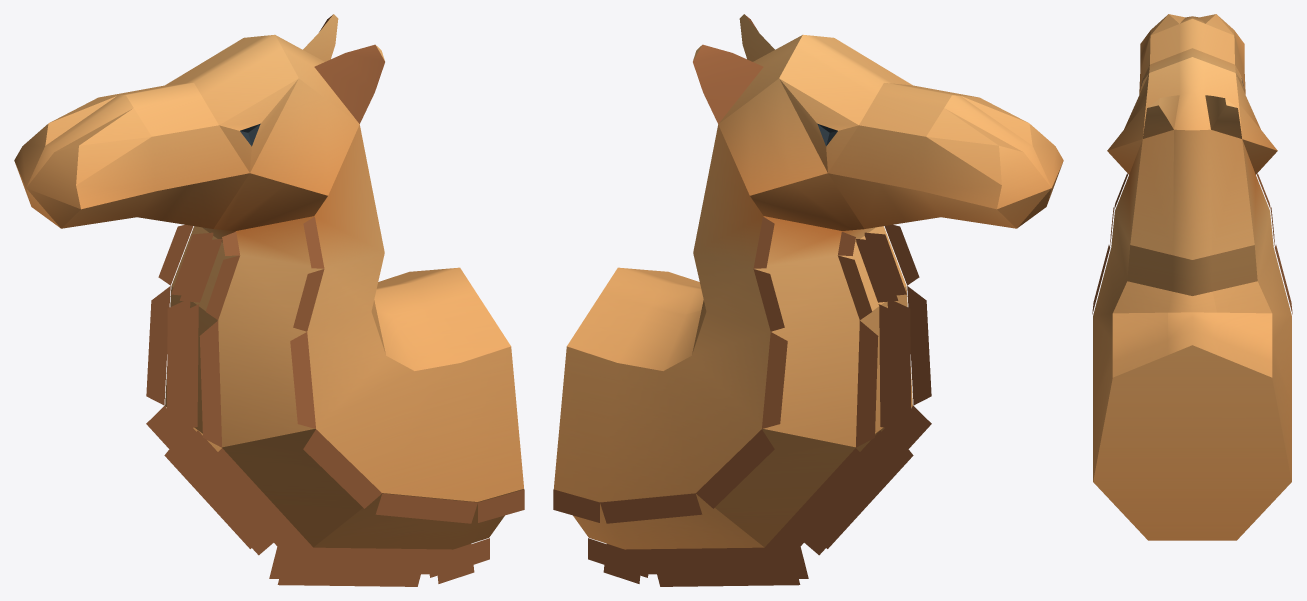
Rendered from Camel_head.fbx.
3 renders of one model, left to right at view 1: azimuth 30°, elevation 25°; view 2: azimuth 150°, elevation 25°; view 3: azimuth 270°, elevation 25°, orthographic. The views are drawn at different scales.
Parts seen in each view (by area): view 1: Camel_head; view 2: Camel_head; view 3: Camel_head.
Boxes of the visible parts, x1,y1,x2,y2 form: Camel_head: (14,14,524,586); Camel_head: (553,14,1063,586); Camel_head: (1092,14,1292,540).
Size of the model in its own units: 44.64 by 56.24 by 22.32.
